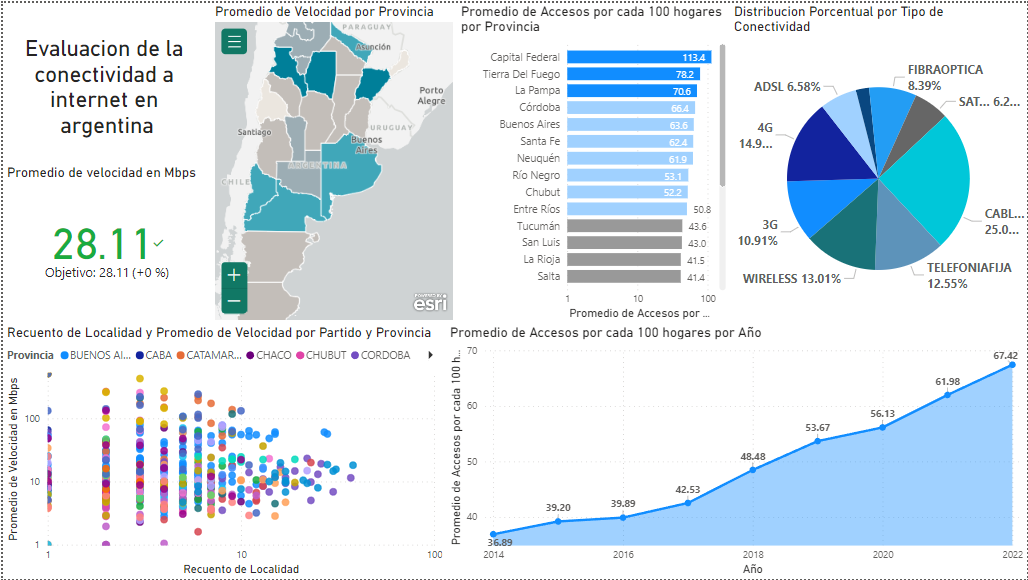

This screenshot's page, from the dashboard's own definition file:
{"tool":"powerbi","page":{"name":"Página 1","canvas":[1280,720],"ordinal":0},"visuals":[{"type":"esriVisual","title":"Promedio de Velocidad por Provincia","fields":{"Location":["VelBajadaPromProv.Provincia"],"Color":["Avg(VelBajadaPromProv.Promedio_PROM)"]},"box":[260,0,307.1,401.4],"z":0},{"type":"actionButton","box":[0,0,100,40],"z":1000},{"type":"scatterChart","title":"Recuento de Localidad y Promedio de Velocidad por Partido y Provincia","fields":{"Category":["ProParLocCantProm.Partido","ProParLocCantProm.PROM"],"X":["ProParLocCantProm.Localidad"],"Y":["Avg(ProParLocCantProm.PROM)"],"Series":["ProParLocCantProm.Provincia"]},"box":[0,401.4,554.3,318.6],"z":2000},{"type":"areaChart","title":"Promedio de Accesos por cada 100 hogares por Año","fields":{"Y":["Avg(Sheet0 (3).Accesos por cada 100 hogares)"],"Category":["Sheet0 (3).Año"]},"box":[554.3,401.4,725.7,318.6],"z":3000},{"type":"pieChart","title":"Distribucion Porcentual por Tipo de Conectividad","fields":{"Y":["Sum(Sheet1.3G)","Sum(Sheet1.4G)","Sum(Sheet1.ADSL)","Sum(Sheet1.DIALUP)","Sum(Sheet1.FIBRAOPTICA)","Sum(Sheet1.SATELITAL)","CountNonNull(Sheet1.CABLEMODEM)","Sum(Sheet1.TELEFONIAFIJA)","Sum(Sheet1.WIRELESS)"]},"box":[908.8,0,371.2,401.2],"z":4000},{"type":"kpi","title":"Promedio de velocidad en Mbps","fields":{"Indicator":["Avg(VelBajadaPromProv.Promedio_PROM)"],"Goal":["ProParLocCantProm.PromVel"],"TrendLine":["ProParLocCantProm.PROM"]},"box":[0,201.4,260,200],"z":5000},{"type":"clusteredBarChart","fields":{"Category":["Penetraciondel100hogaresResumen.Provincia"],"Y":["Avg(Penetraciondel100hogaresResumen.Accesos por cada 100 hogares)"]},"box":[540,0,368.8,638.8],"z":6000},{"type":"card","fields":{"Values":["Penetraciondel100hogaresResumen.Medida 3"]},"box":[0,1.4,260,200],"z":7000}]}

Visuals, with their boxes in screenshot pixels (x1, y1, x2, y2), scaled from the page's 1280x720 canvas onto the 1028x580 screenshot:
"Promedio de Velocidad por Provincia" esriVisual: BBox(209, 0, 455, 323)
actionButton: BBox(0, 0, 80, 32)
"Recuento de Localidad y Promedio de Velocidad por Partido y Provincia" scatterChart: BBox(0, 323, 445, 579)
"Promedio de Accesos por cada 100 hogares por Año" areaChart: BBox(445, 323, 1027, 579)
"Distribucion Porcentual por Tipo de Conectividad" pieChart: BBox(730, 0, 1027, 323)
"Promedio de velocidad en Mbps" kpi: BBox(0, 162, 209, 323)
clusteredBarChart - Penetraciondel100hogaresResumen.Provincia x Avg(Penetraciondel100hogaresResumen.Accesos por cada 100 hogares): BBox(434, 0, 730, 515)
card - Penetraciondel100hogaresResumen.Medida 3: BBox(0, 1, 209, 162)
